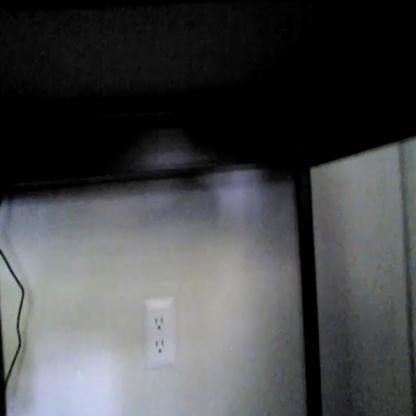OUTLET: (145, 298, 175, 364)
